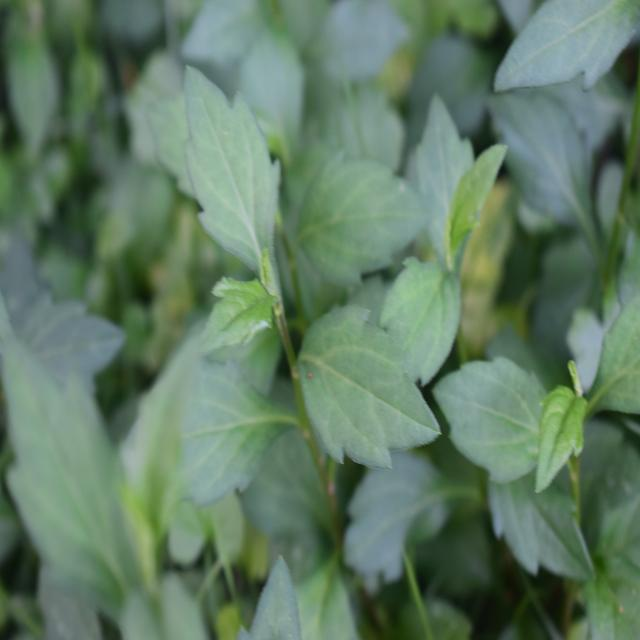Indian aster: (153, 67, 438, 506)
